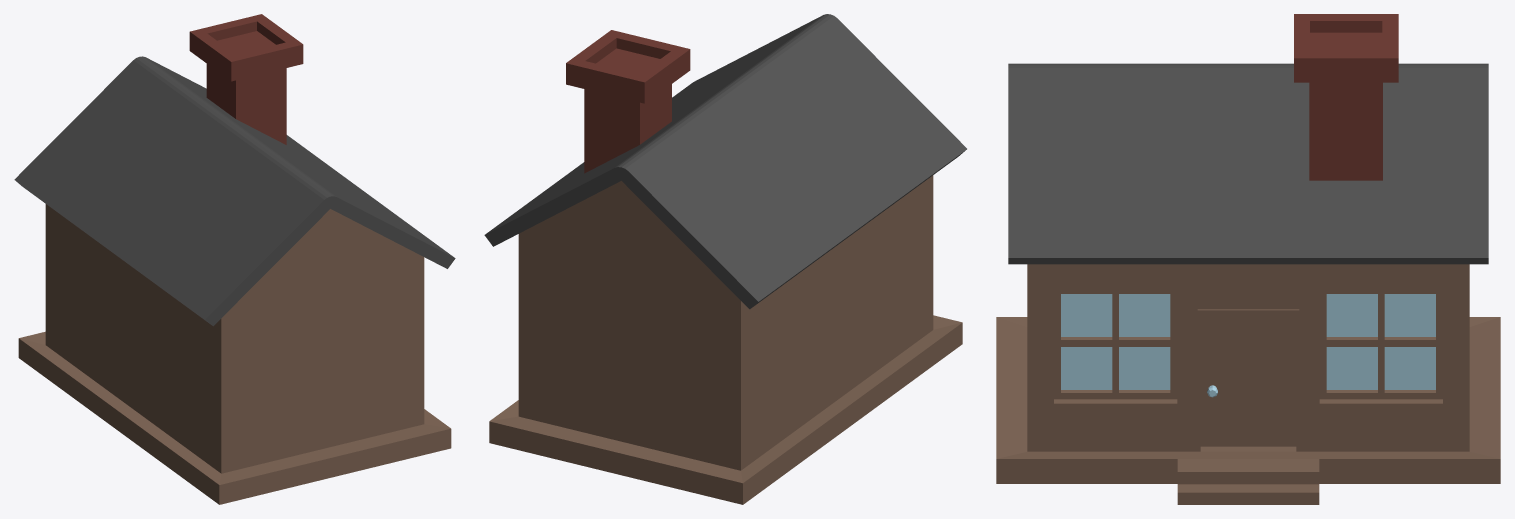
Rendered from House (3).fbx.
3 renders of one model, left to right at view 1: azimuth 30°, elevation 25°; view 2: azimuth 150°, elevation 25°; view 3: azimuth 270°, elevation 25°, orthographic. The views are drawn at different scales.
Parts seen in each view (by area): view 1: House; view 2: House; view 3: House.
Boxes of the visible parts, x1,y1,x2,y2 form: House: [14, 14, 455, 504]; House: [484, 14, 966, 504]; House: [996, 14, 1500, 504].
Size of the model in its own units: 5.43 by 6.11 by 6.85.
